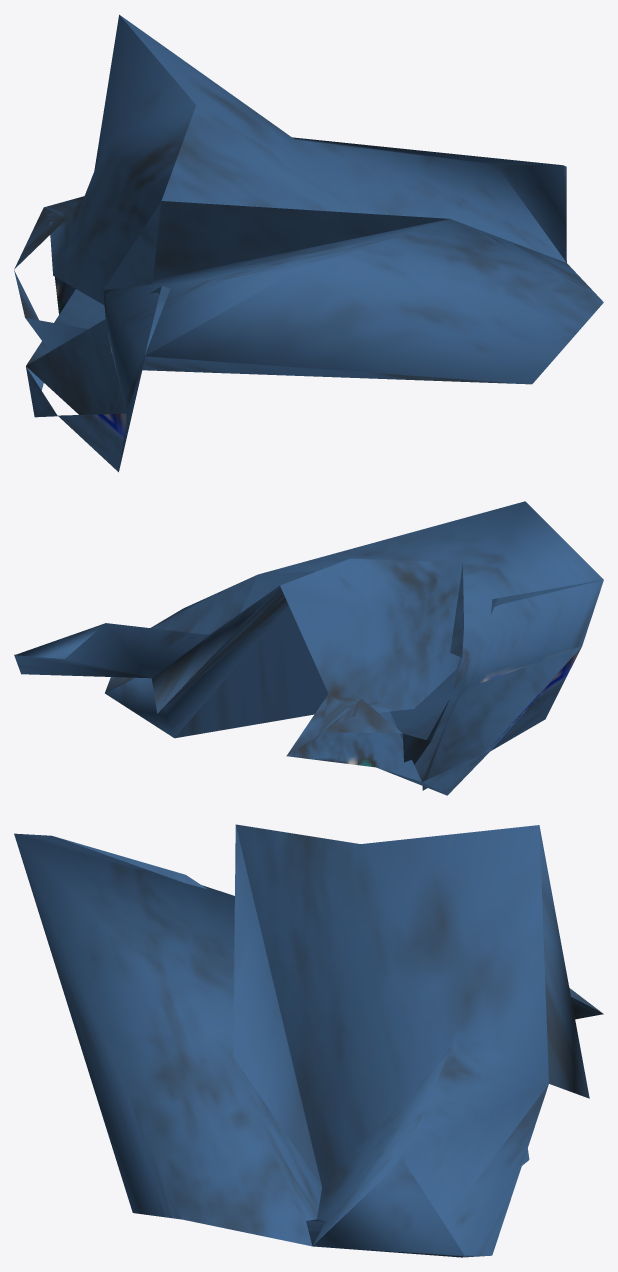
File: Garbage_Plastic_Bag_06.fbx
3 renders of one model, top to bottom at view 1: azimuth 30°, elevation 25°; view 2: azimuth 150°, elevation 25°; view 3: azimuth 270°, elevation 25°, orthographic. The views are drawn at different scales.
Parts seen in each view (by area): view 1: garbage_plasticbag2.007; view 2: garbage_plasticbag2.007; view 3: garbage_plasticbag2.007.
Boxes of the visible parts, box(x1,y1,x2,y2) form: garbage_plasticbag2.007: box(14, 14, 603, 472); garbage_plasticbag2.007: box(14, 501, 603, 795); garbage_plasticbag2.007: box(14, 824, 603, 1257).
Size of the model in its own units: 5.91 by 2.94 by 4.75.
